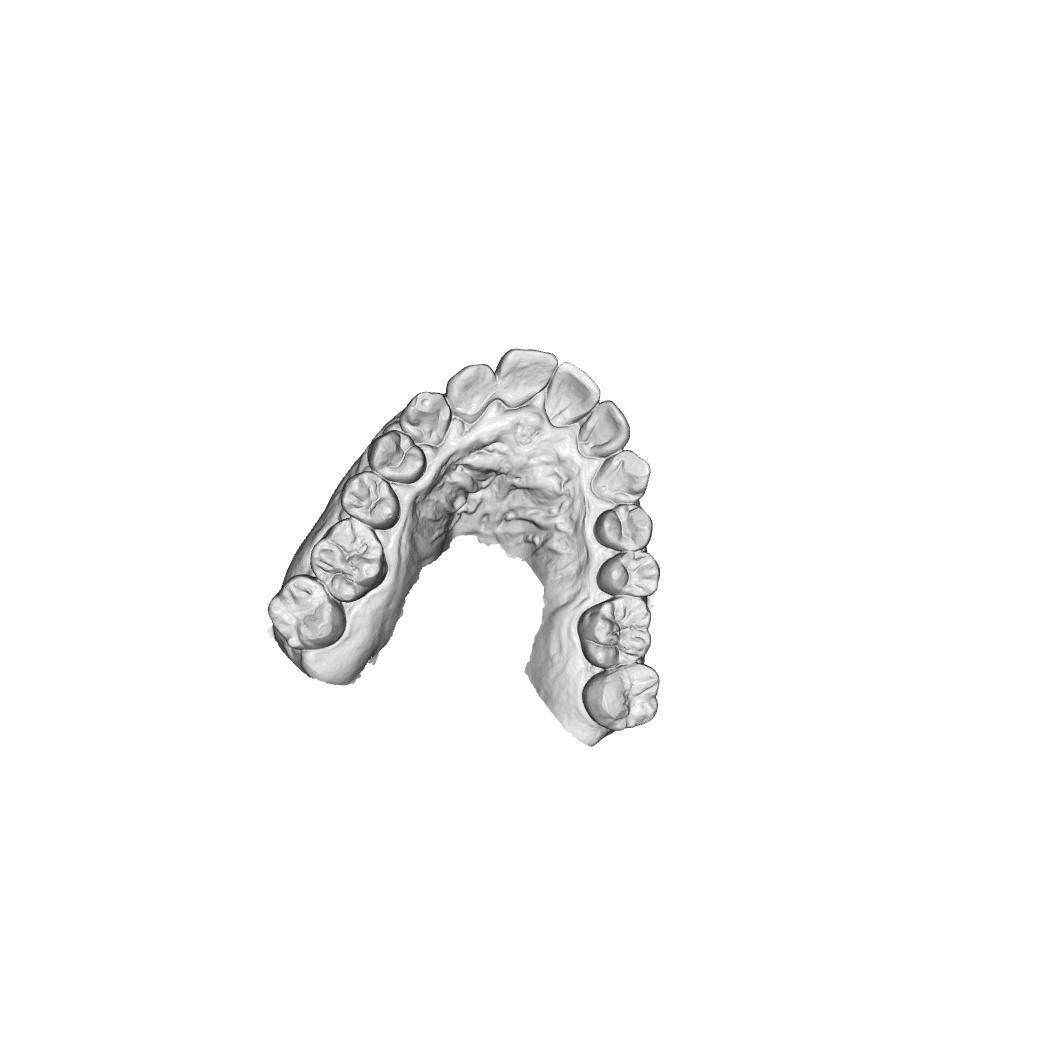canine: (591, 449, 652, 506), (398, 390, 453, 448)
incisor: (494, 347, 560, 411), (544, 361, 602, 429), (576, 399, 631, 460), (444, 363, 497, 424)
molar: (308, 515, 389, 604), (267, 572, 348, 651), (580, 662, 661, 733), (576, 596, 652, 670)
premolar: (339, 469, 402, 531), (367, 429, 428, 485), (596, 550, 661, 598), (593, 503, 655, 552)
